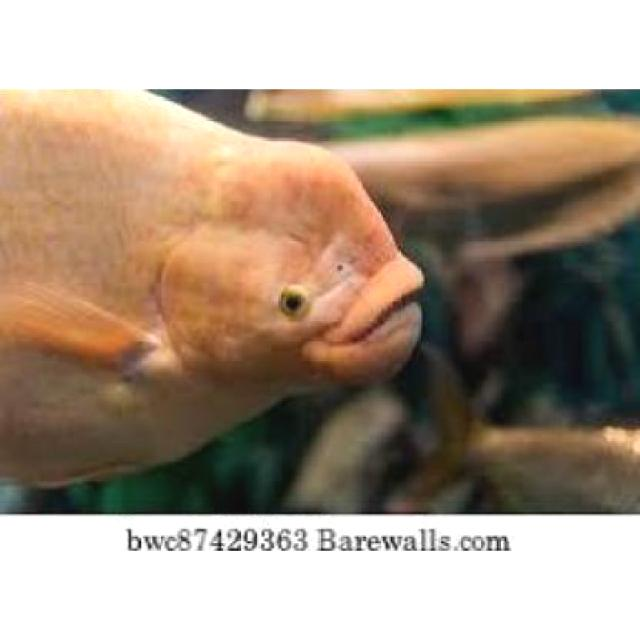gurame: (0, 87, 418, 470)
